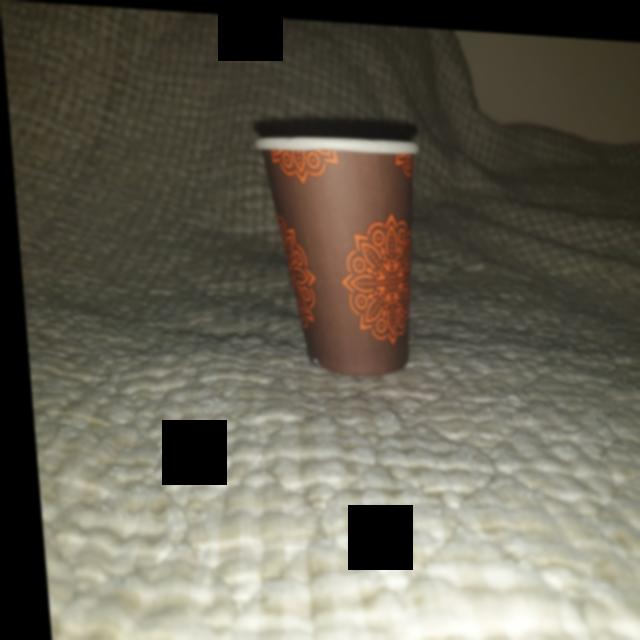cups: (252, 118, 434, 386)
